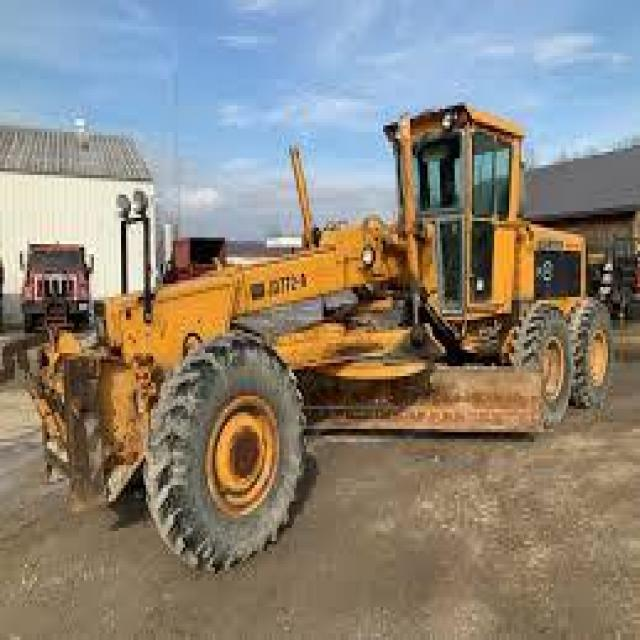Grader: (42, 96, 620, 577)
